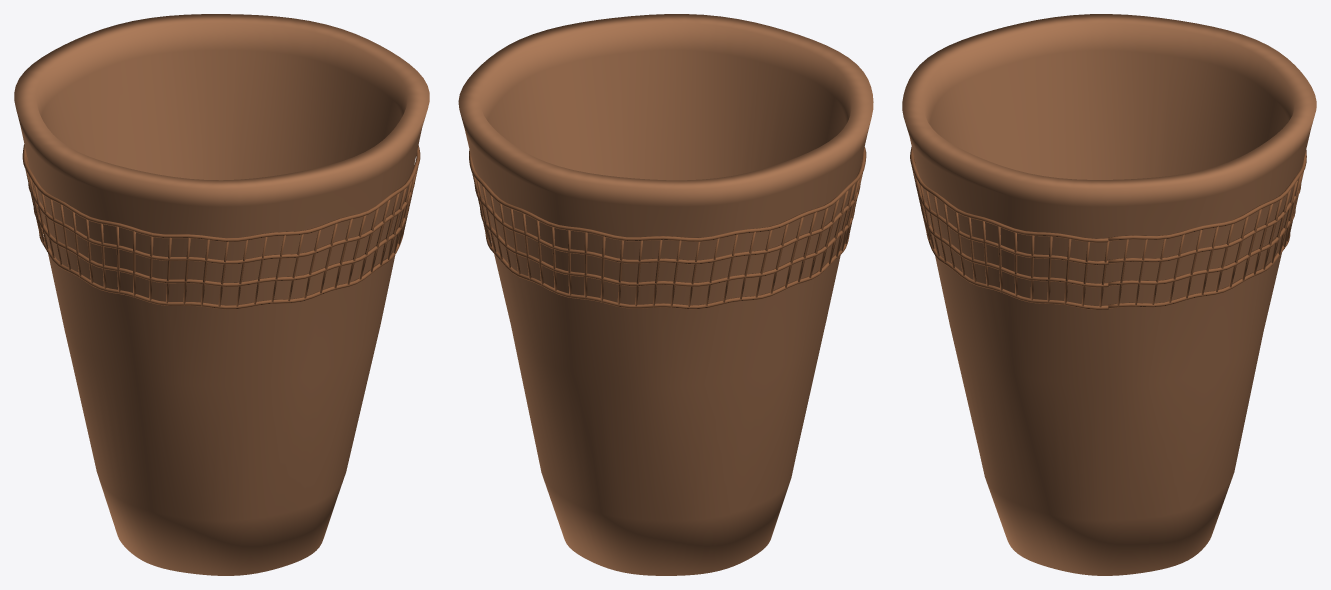
Rendered from EarthenwareDeepBowl.fbx.
3 views of the same model, side by side, from view 1: azimuth 30°, elevation 25°; view 2: azimuth 150°, elevation 25°; view 3: azimuth 270°, elevation 25° (orthographic).
Visible parts, largest first — view 1: Material group EarthenwareDeepBowl_Terracotta, Material group EarthenwareDeepBowl_CordMarks; view 2: Material group EarthenwareDeepBowl_Terracotta, Material group EarthenwareDeepBowl_CordMarks; view 3: Material group EarthenwareDeepBowl_Terracotta, Material group EarthenwareDeepBowl_CordMarks.
Part boxes in pixels (x1,y1,x2,y2): Material group EarthenwareDeepBowl_Terracotta: (14,14,429,575); Material group EarthenwareDeepBowl_CordMarks: (22,144,420,309); Material group EarthenwareDeepBowl_Terracotta: (458,14,873,575); Material group EarthenwareDeepBowl_CordMarks: (469,147,866,309); Material group EarthenwareDeepBowl_Terracotta: (902,14,1316,575); Material group EarthenwareDeepBowl_CordMarks: (910,147,1306,309).
Size of the model in its own units: 0.8737 by 1 by 0.8738.
